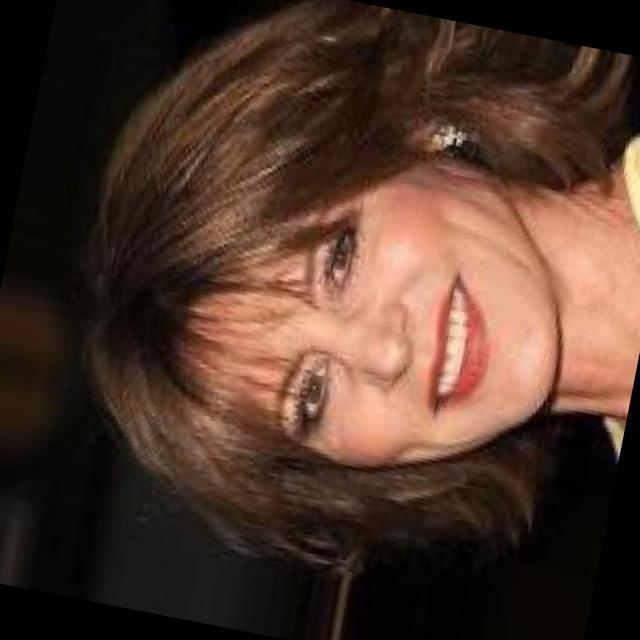bareface: (40, 18, 609, 570)
